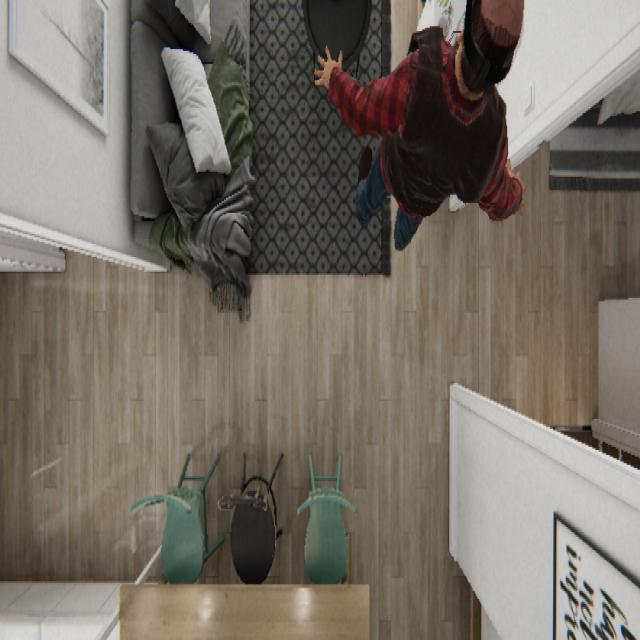Human: (313, 0, 525, 250)
